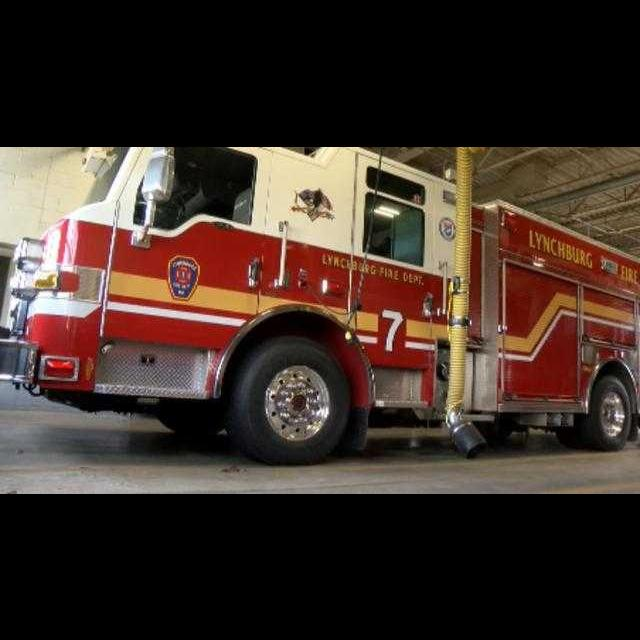emergency: (1, 146, 638, 464)
